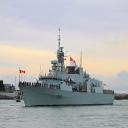Fragata: (20, 27, 116, 108)
